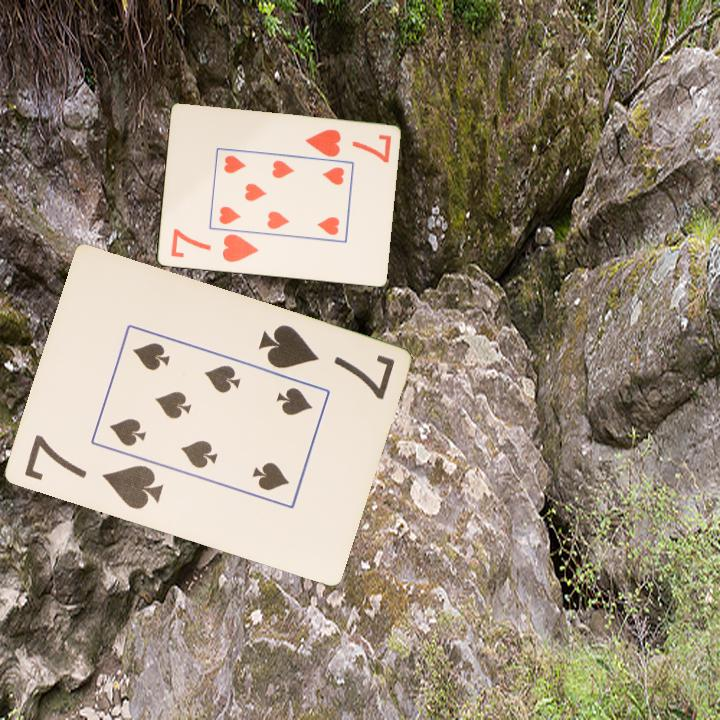7h: (167, 225, 261, 265), (301, 126, 394, 165)
7s: (20, 431, 165, 513), (254, 321, 397, 403)
